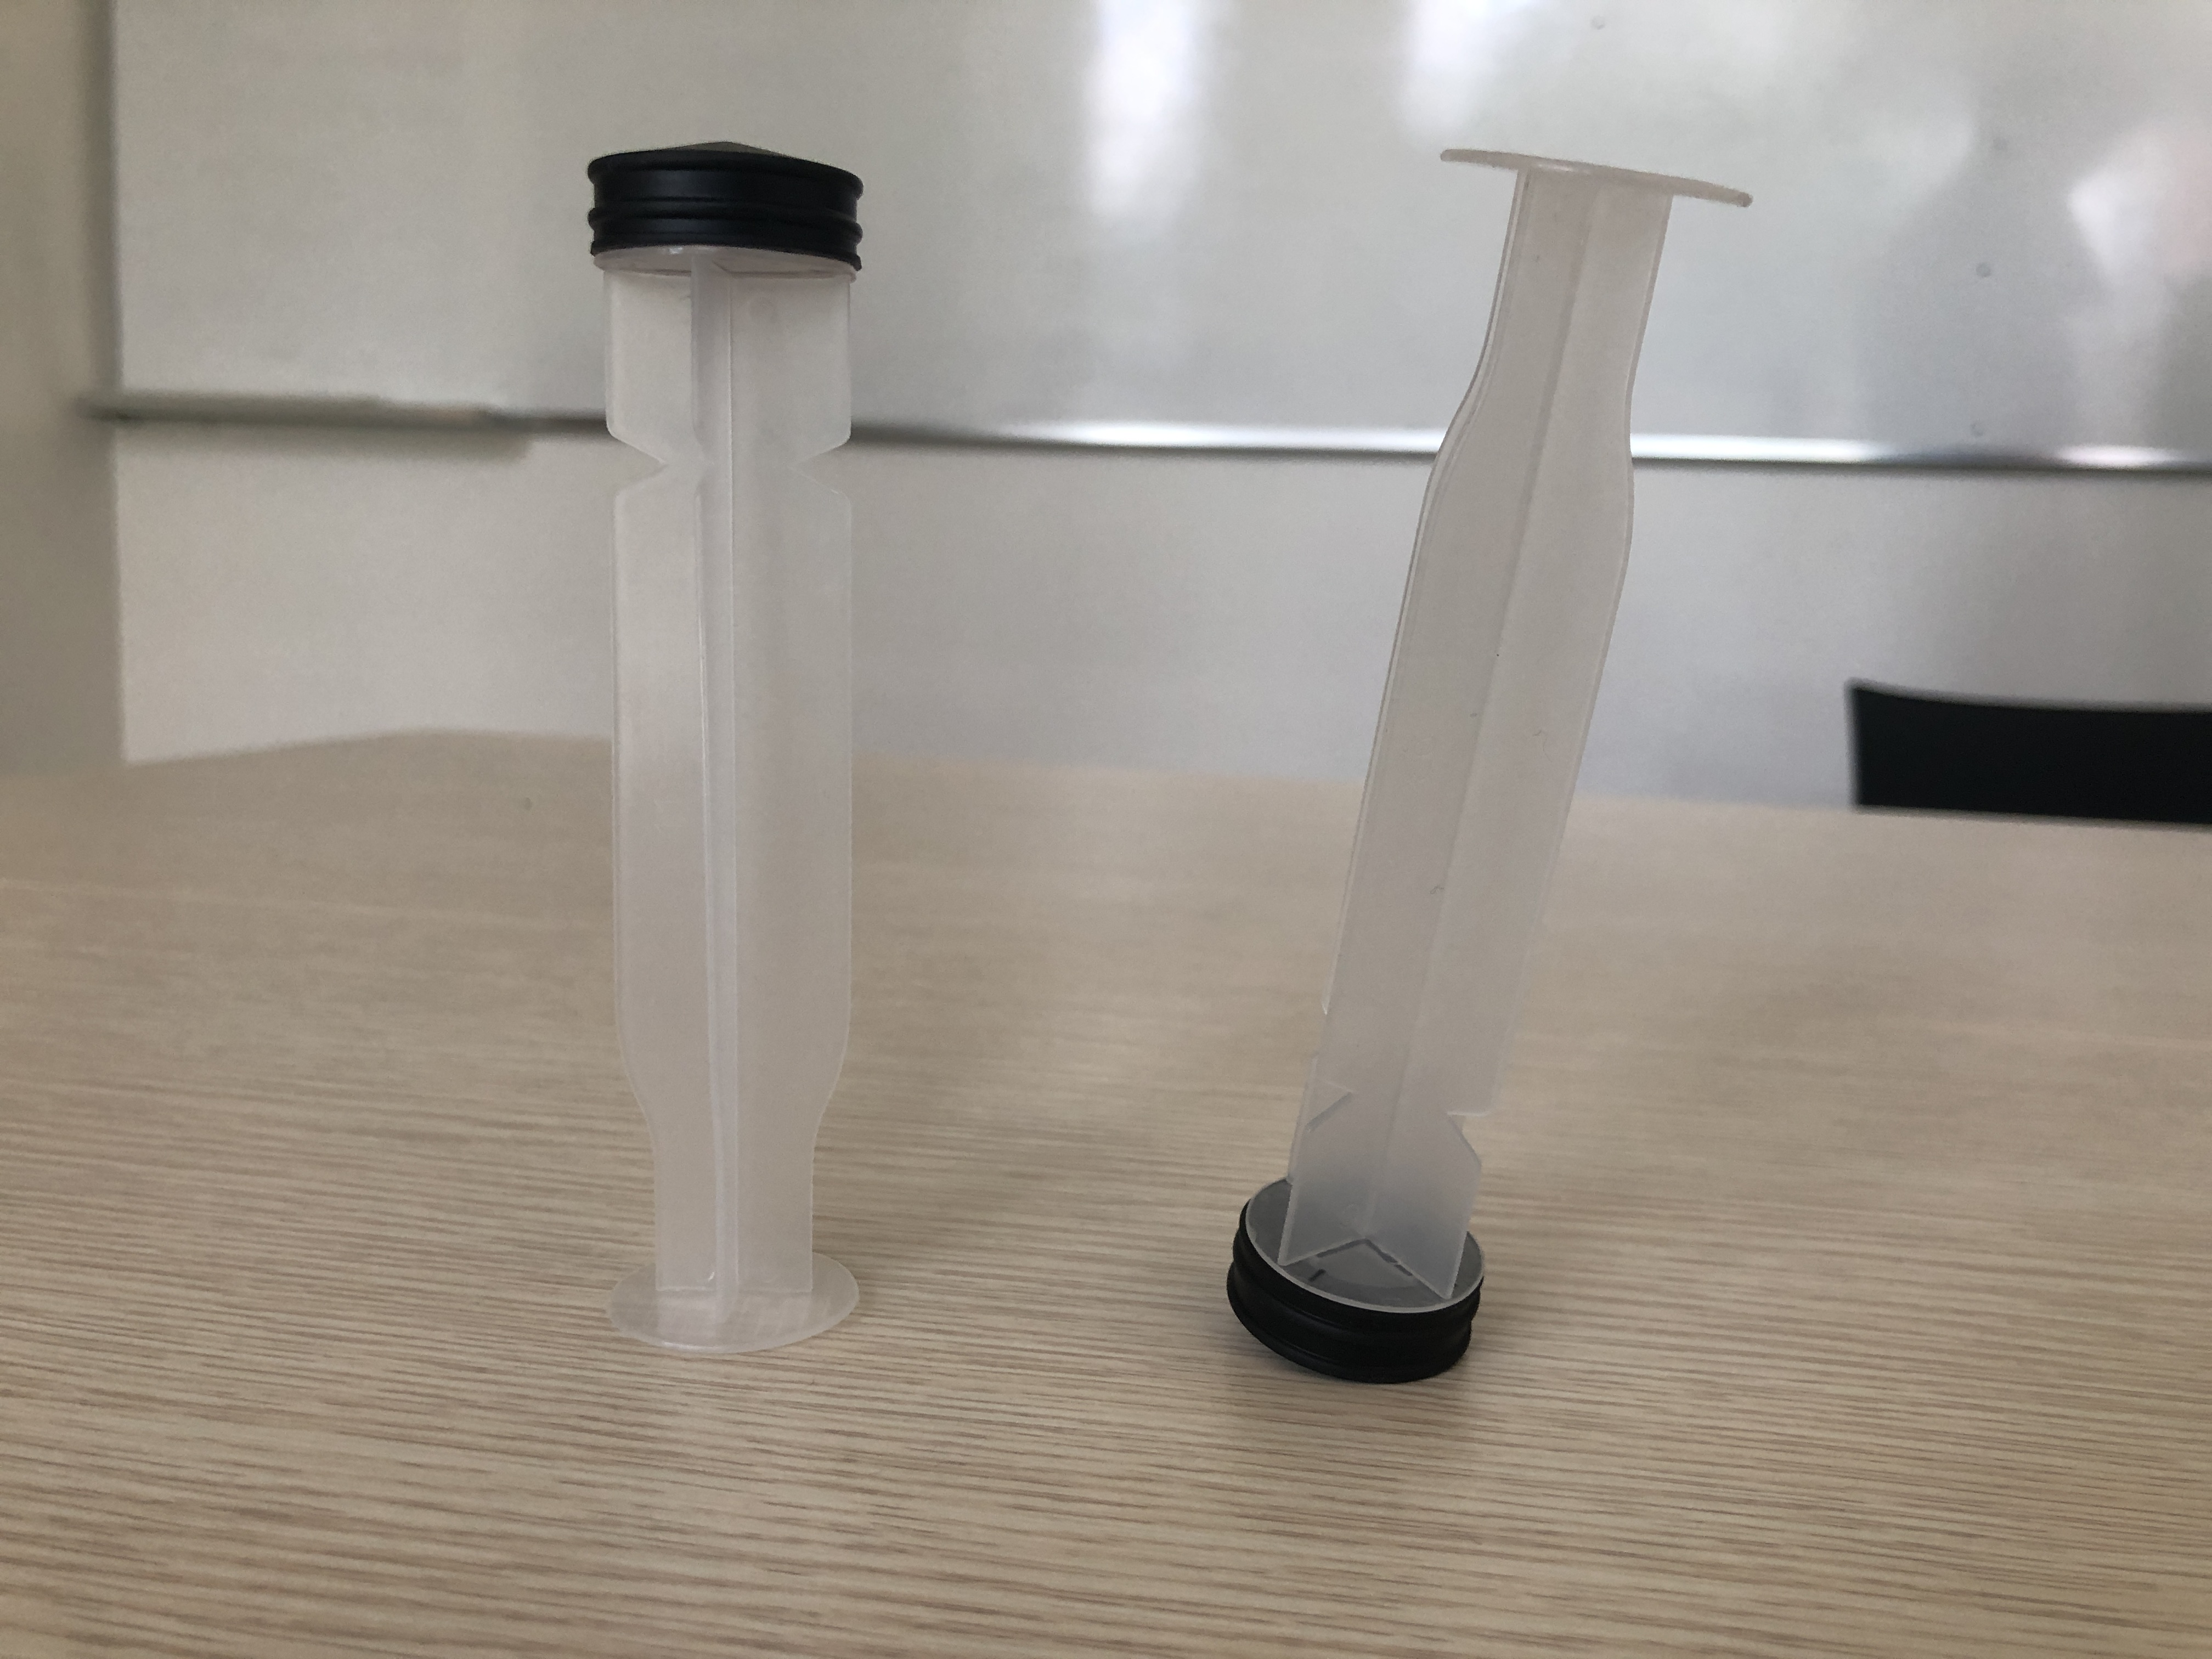plunger: (1212, 143, 1759, 1394), (570, 132, 878, 1364)
